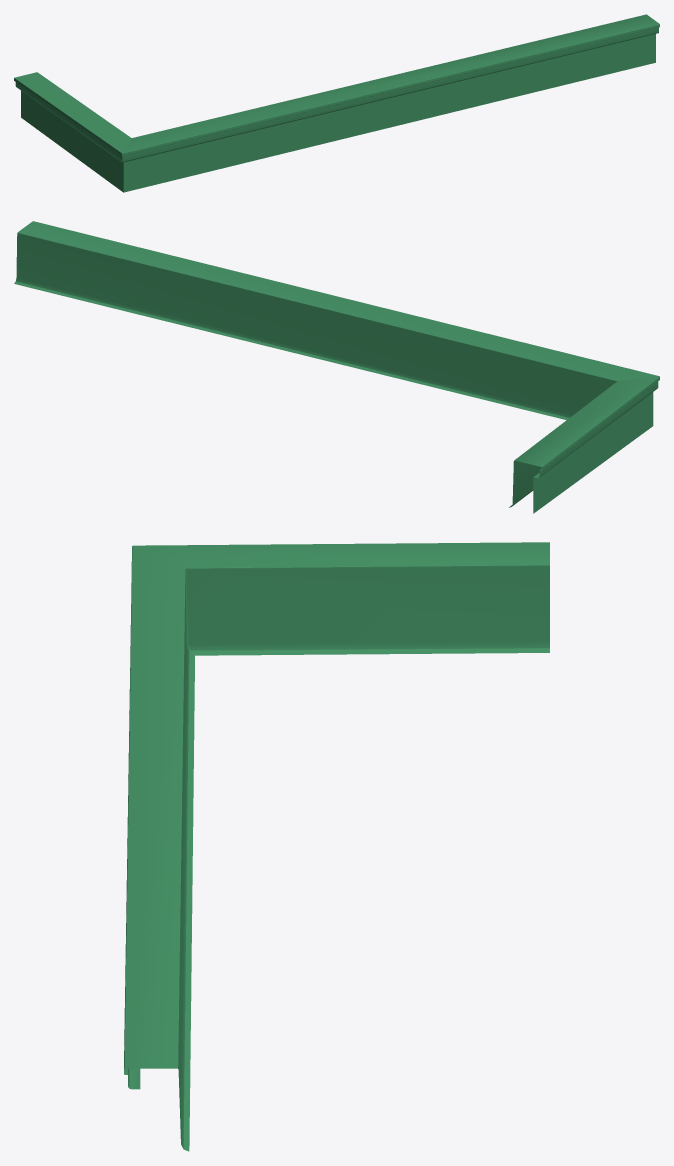
File: GS_Ext_Roof_Trim_Corner_04.fbx
The picture shows the model from 3 angles, top to bottom: view 1: azimuth 30°, elevation 25°; view 2: azimuth 150°, elevation 25°; view 3: azimuth 270°, elevation 25°; orthographic projection. The views are drawn at different scales.
Visible parts, largest first — view 1: GS_Ext_Roof_Trim_Corner_04; view 2: GS_Ext_Roof_Trim_Corner_04; view 3: GS_Ext_Roof_Trim_Corner_04.
Boxes of the visible parts, box(x1,y1,x2,y2) form: GS_Ext_Roof_Trim_Corner_04: box(14, 14, 659, 192); GS_Ext_Roof_Trim_Corner_04: box(14, 221, 659, 513); GS_Ext_Roof_Trim_Corner_04: box(124, 542, 549, 1151).
Bounding box in the file's own units: 760 × 56 × 260.
